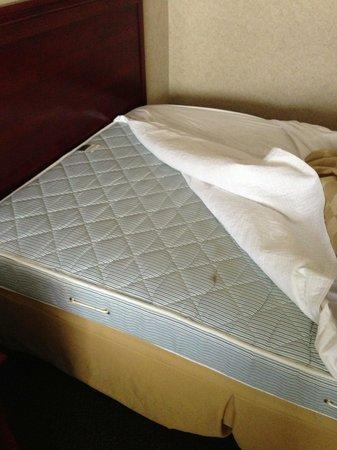Bed-Mattress: (0, 96, 337, 425)
